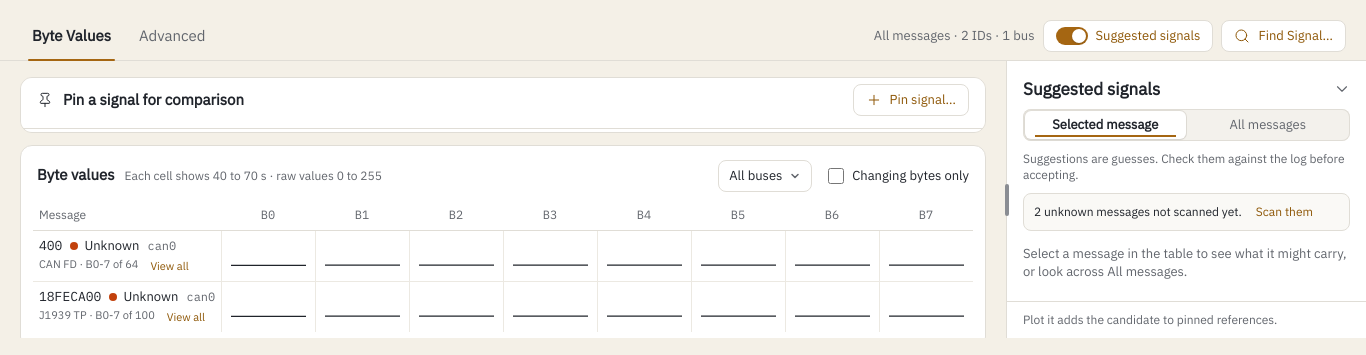
it: Byte Values › labels a long payload by what carries it and expands it in groups of eight
Click the button "View all" next to "J1939 TP · B0-7 of 100": [186, 317] box [161,308,211,326]
(page scrolled)
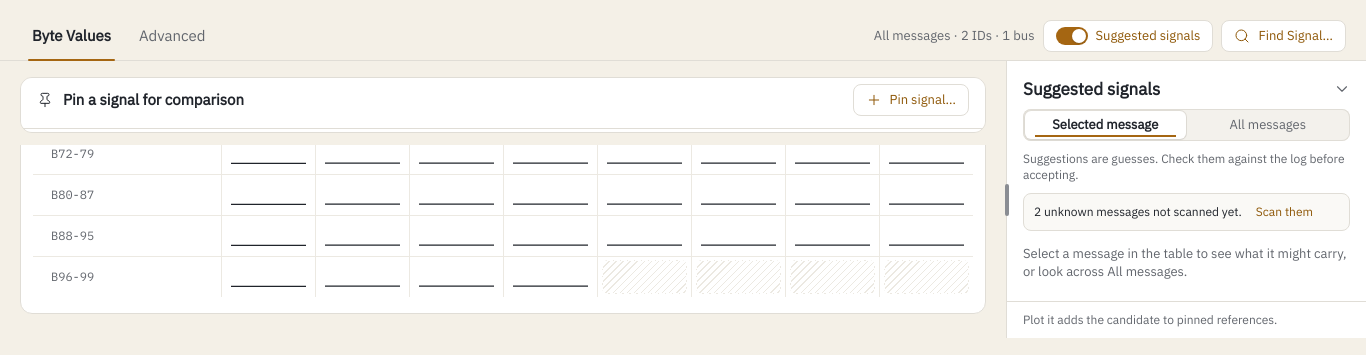
Check: the text "B96-99" is shown, box [51,269,94,284]
